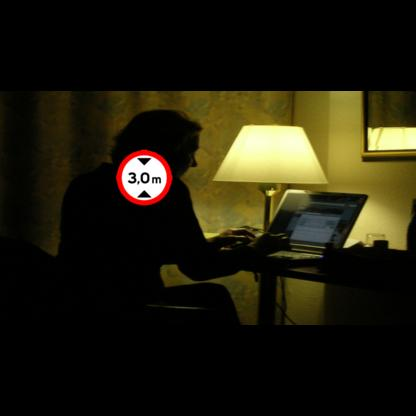R-15: (116, 150, 172, 205)
